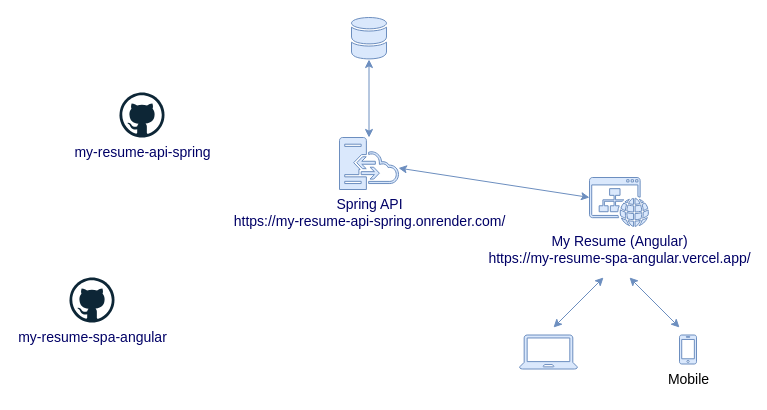
This 767x410 diagram has some shape labels left out. Each missing label, with the box of its shape:
Desktop: (518, 334, 578, 369)
MongoDB Atlas: (350, 16, 386, 60)
